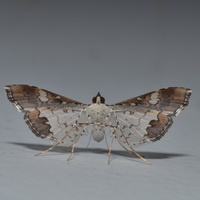insect: (5, 84, 191, 164)
